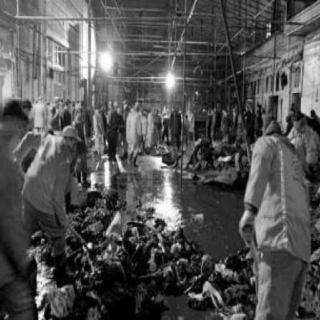other: (24, 126, 80, 216), (128, 99, 144, 160), (154, 191, 178, 225), (161, 64, 180, 97)
